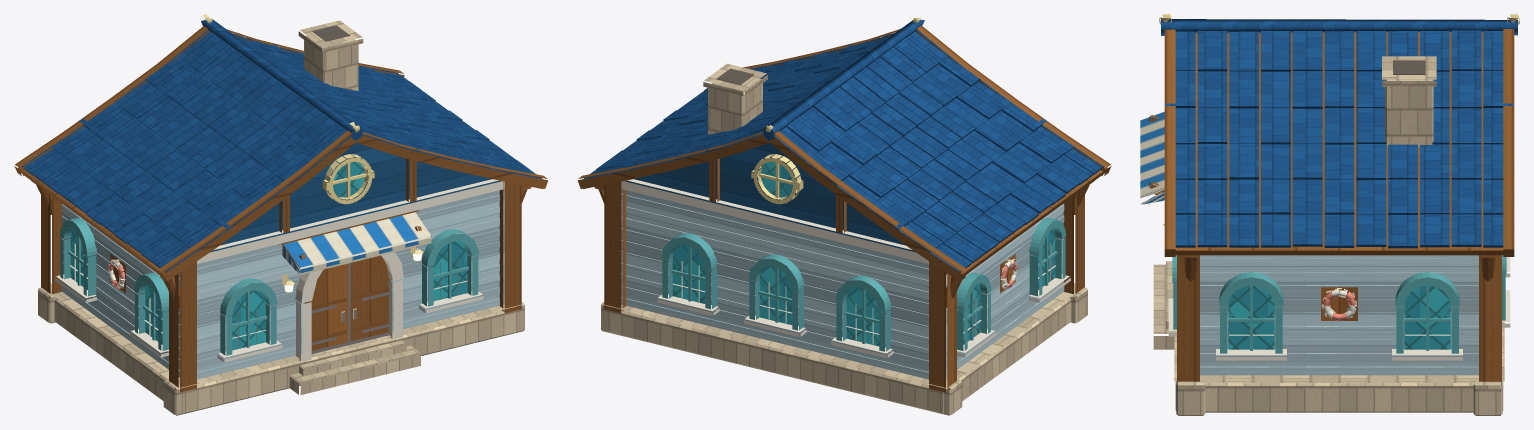
File: boathouse.glb
3 renders of one model, left to right at view 1: azimuth 30°, elevation 25°; view 2: azimuth 150°, elevation 25°; view 3: azimuth 270°, elevation 25°, orthographic. The views are drawn at different scales.
Visible parts, largest first — view 1: boathouse; view 2: boathouse; view 3: boathouse.
Boxes of the visible parts, x1,y1,x2,y2 form: boathouse: (14, 14, 548, 415); boathouse: (577, 17, 1111, 415); boathouse: (1140, 14, 1519, 415).
Size of the model in its own units: 8.66 by 5.44 by 6.24.
16 materials, 8 textured.
